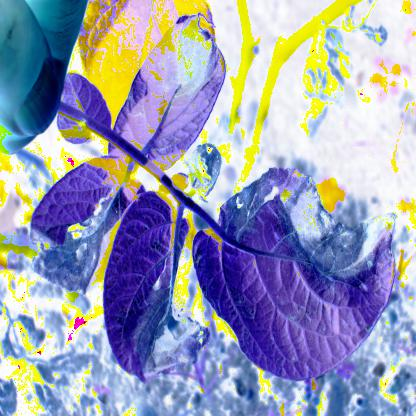potato leaf early blight: (187, 165, 396, 384), (106, 14, 227, 172), (101, 187, 190, 383), (32, 155, 145, 294)
